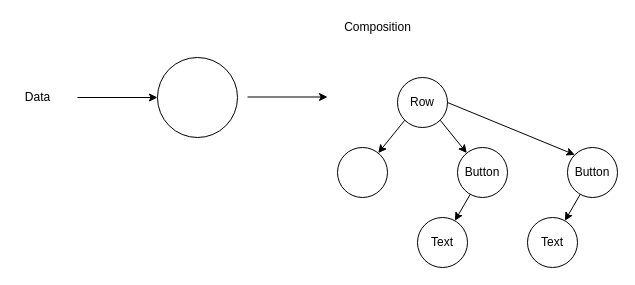
The diagram is 635 pixels wide and 285 high, and some of its shapes have lost their labels. The shapes that lost their labels are listed below. From the top down, each one's centre as x and y in pixels, then its label:
At [197,97]: "Composable App".
At [362,172]: "Text 0".
